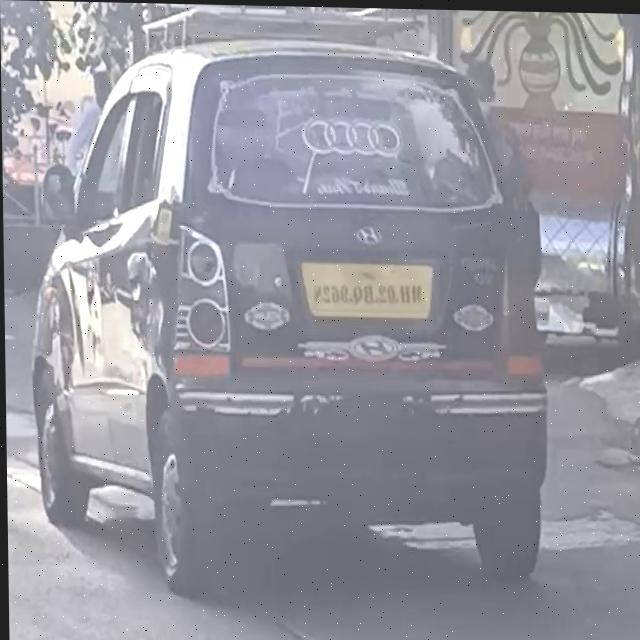plate: (296, 251, 438, 326)
